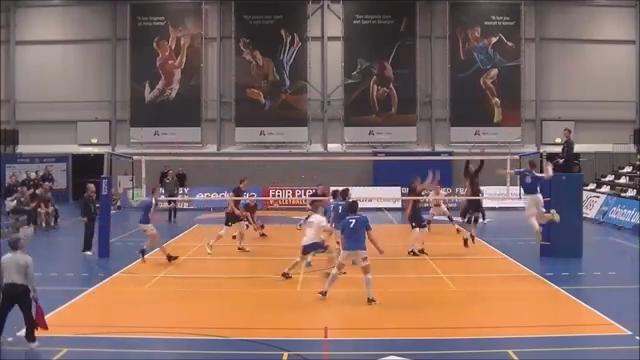Attack: (494, 152, 562, 249)
Player: (318, 200, 383, 304), (281, 203, 332, 278), (206, 178, 249, 254), (460, 160, 483, 246), (427, 172, 459, 233), (138, 188, 159, 261), (330, 188, 350, 256), (405, 199, 427, 255), (241, 199, 266, 236), (323, 189, 339, 225), (307, 185, 326, 208)
